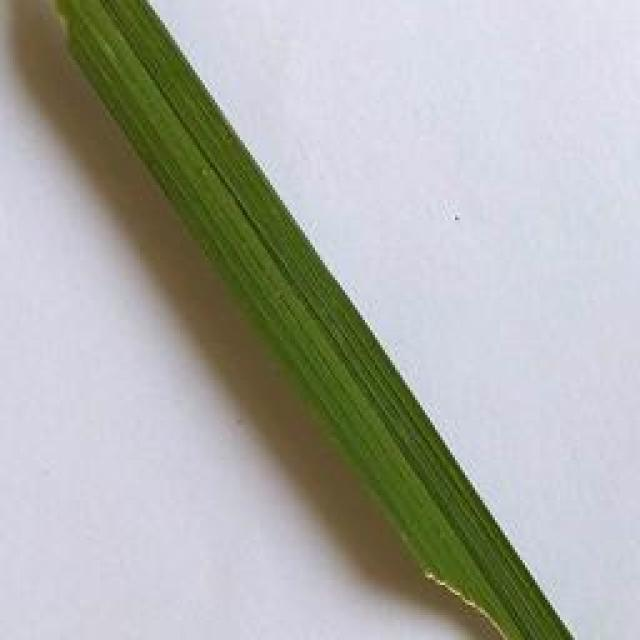Bacterial_Blight: (410, 556, 579, 640), (32, 0, 89, 52)
